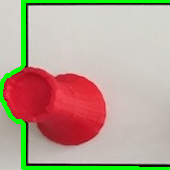Red Castle: (2, 57, 115, 152)
